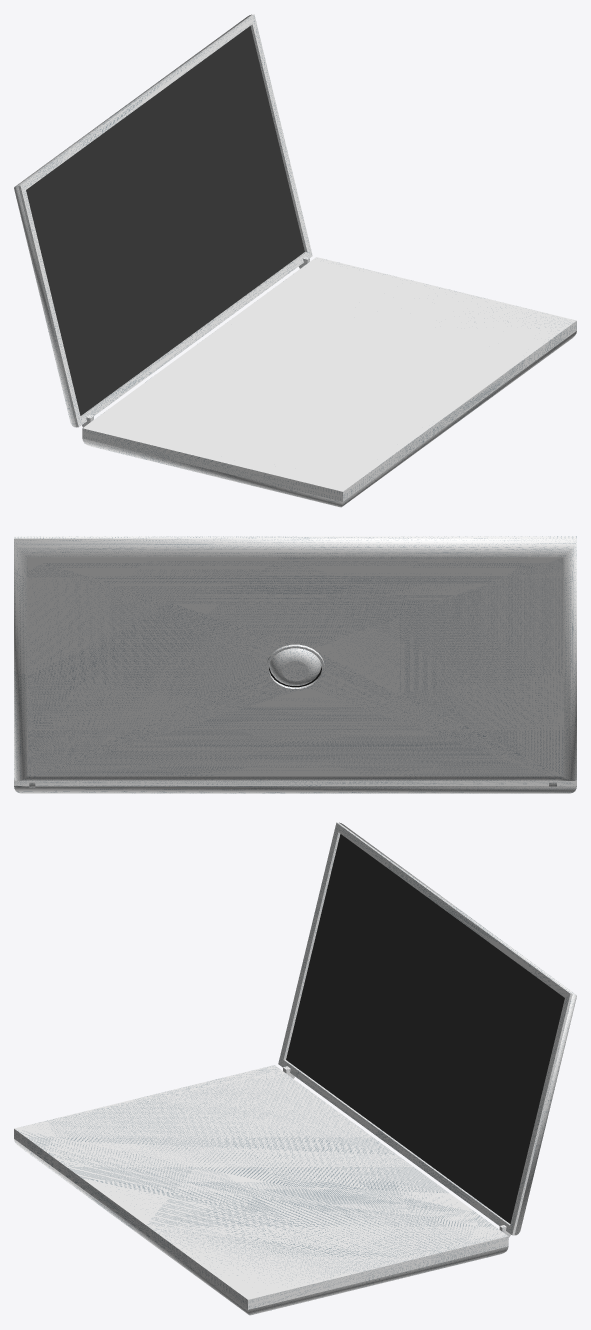
3 views of the same model, one above another, from view 1: azimuth 30°, elevation 25°; view 2: azimuth 150°, elevation 25°; view 3: azimuth 270°, elevation 25° (orthographic). The views are drawn at different scales.
Visible parts, largest first — view 1: group_1 (×3), image_0, group_2; view 2: group_1 (×3), group_2; view 3: group_1 (×3), group_2, image_0.
Part boxes in pixels (<box>): group_1 (×3): <box>14,14,312,427</box>; image_0: <box>83,257,575,491</box>; group_2: <box>82,257,576,507</box>; group_1 (×3): <box>14,536,576,780</box>; group_2: <box>14,779,576,793</box>; group_1 (×3): <box>278,822,576,1235</box>; group_2: <box>14,1065,510,1315</box>; image_0: <box>107,1069,405,1299</box>.
Bounding box in the file's own units: 20.99 × 19.89 × 9.65.
